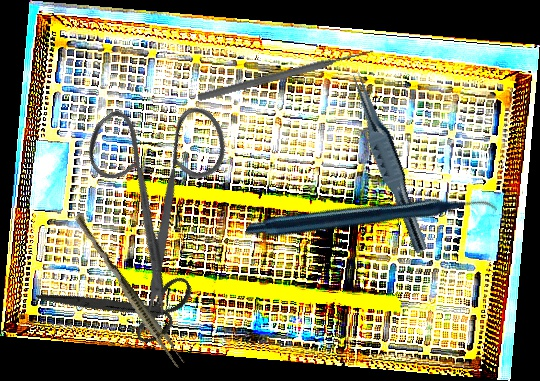Handpiece: (243, 102, 499, 339)
Iris Scissors: (35, 64, 292, 324), (35, 229, 206, 381)
Pusher: (196, 45, 376, 104)
Tissue Forceps: (68, 212, 189, 370), (340, 69, 439, 255)
